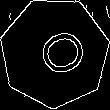O_SW: (23, 22, 86, 83)
